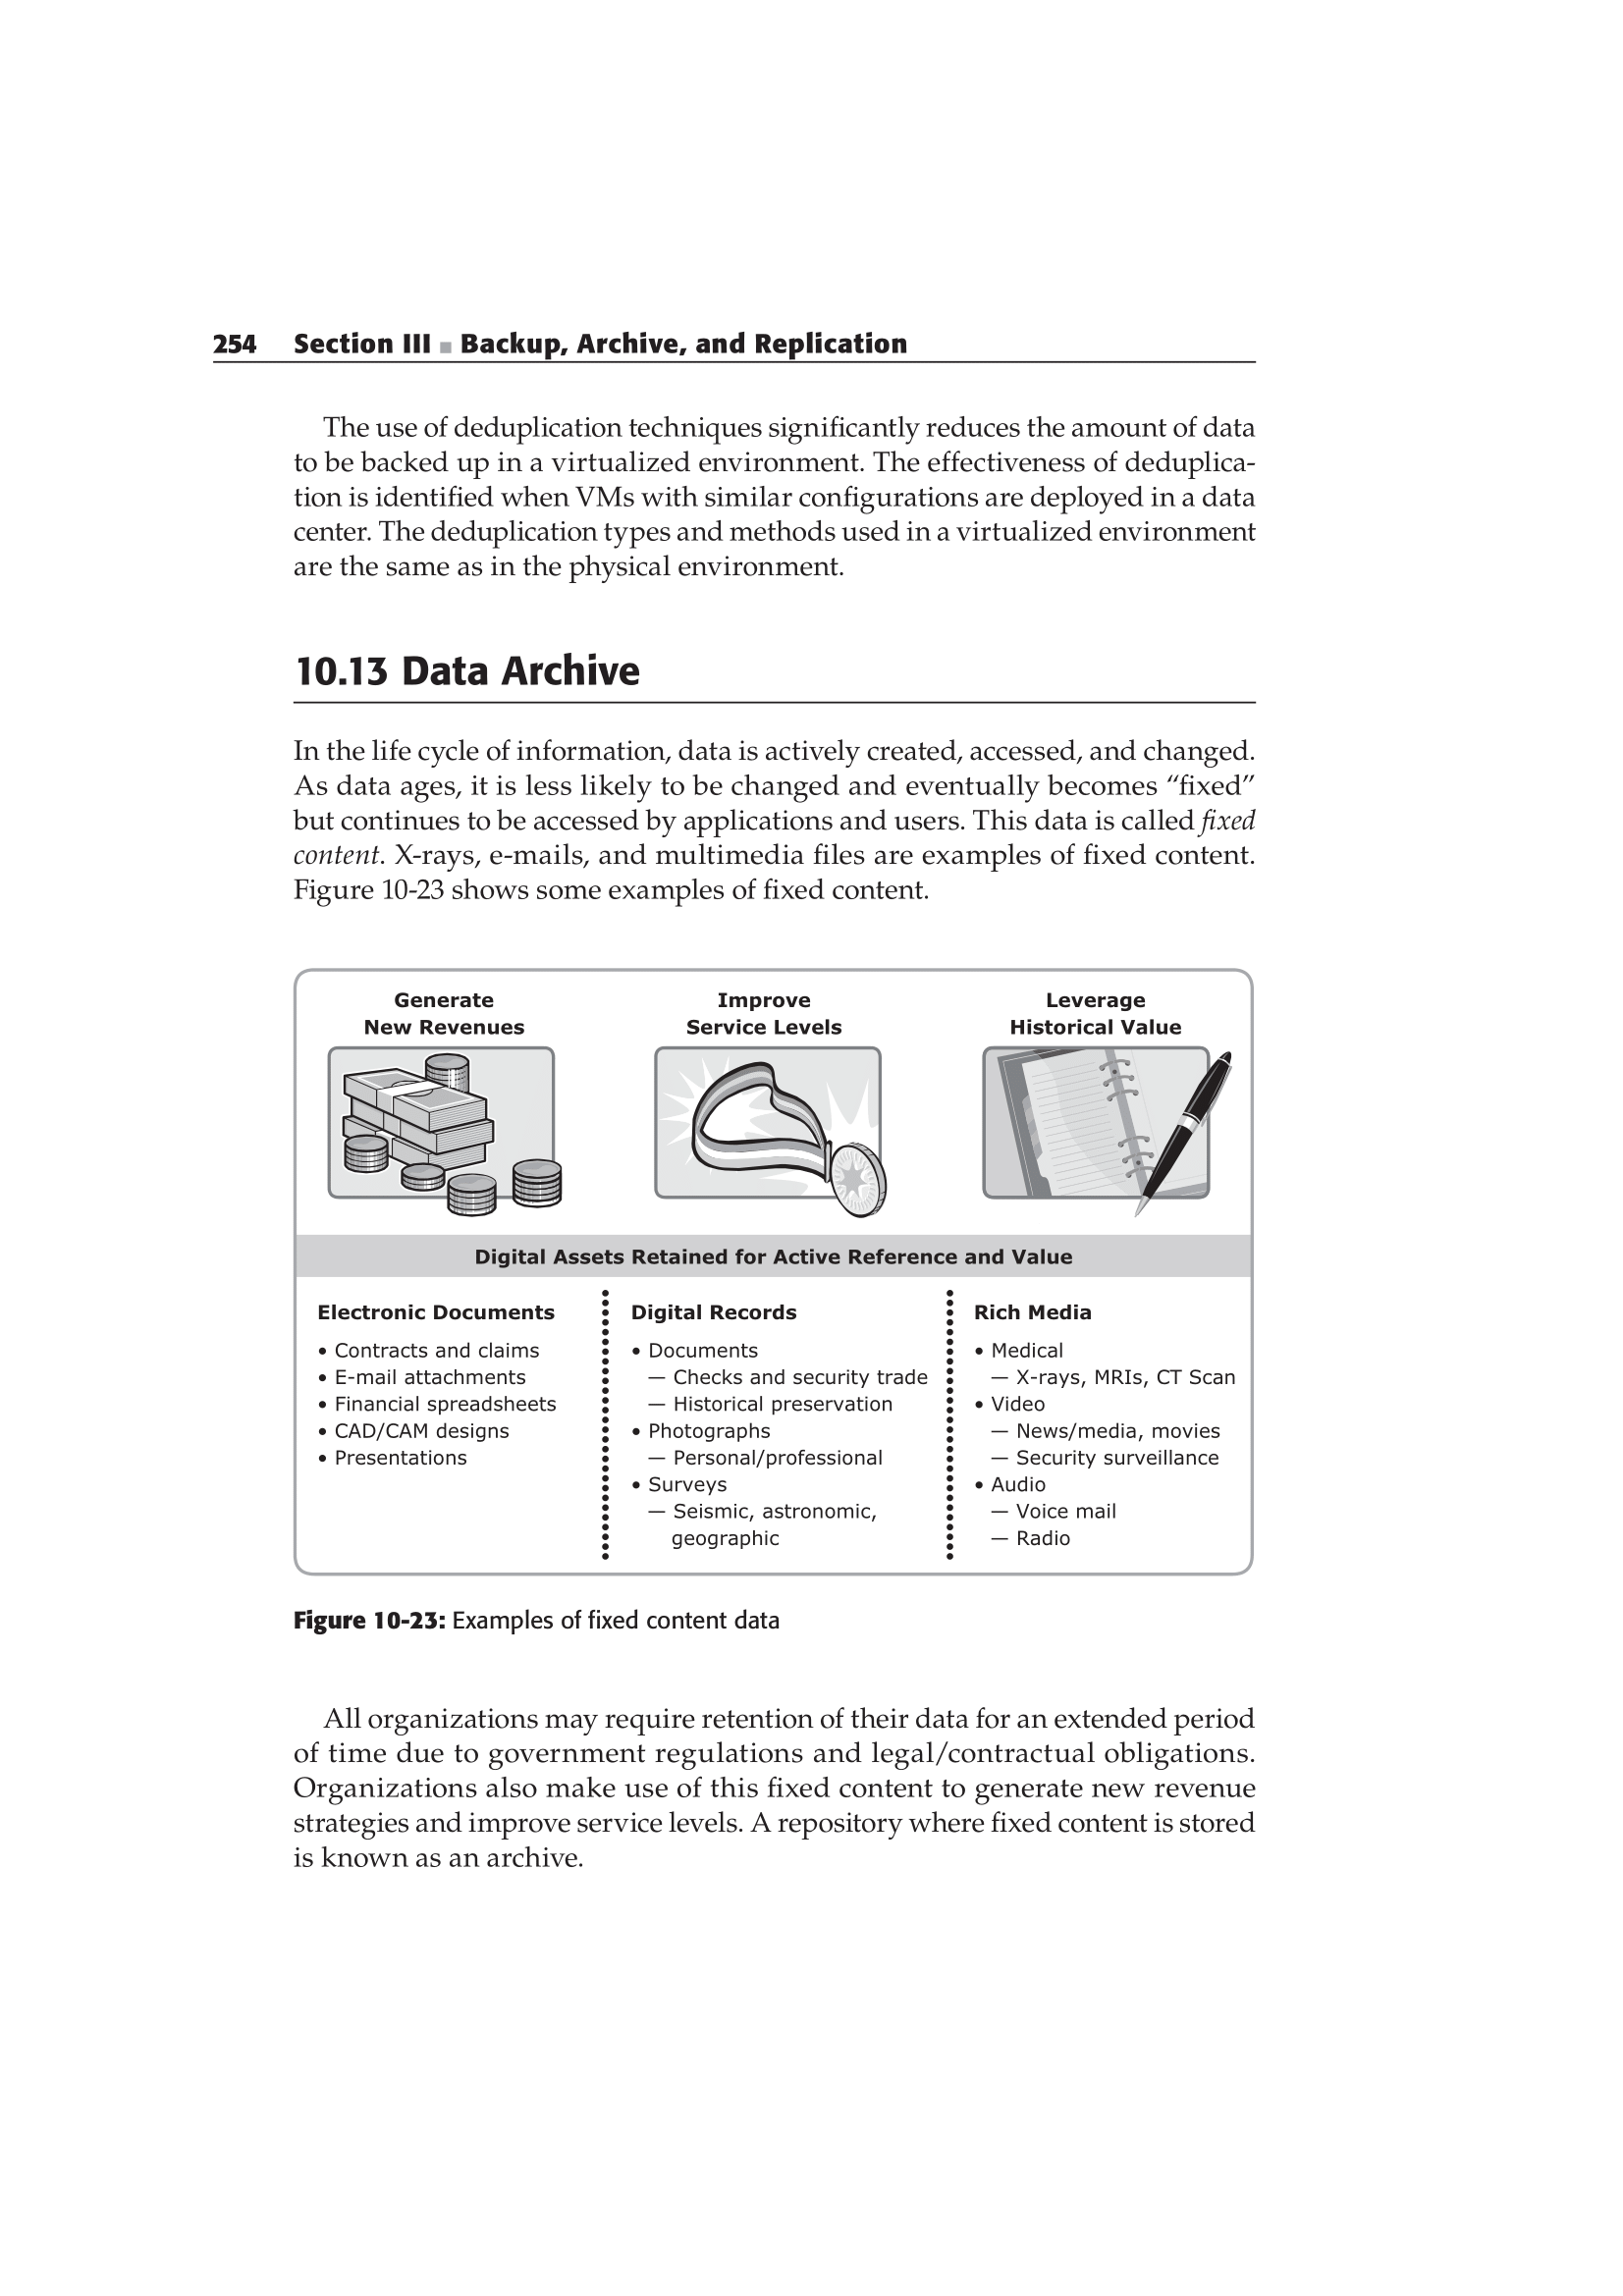Image: (309, 990, 601, 1225), (622, 981, 896, 1229), (957, 987, 1244, 1218)
Paragraph: (204, 1692, 1282, 1934), (260, 411, 1321, 625), (206, 734, 1400, 913), (155, 311, 1068, 377), (227, 625, 829, 707), (281, 1590, 820, 1668)
